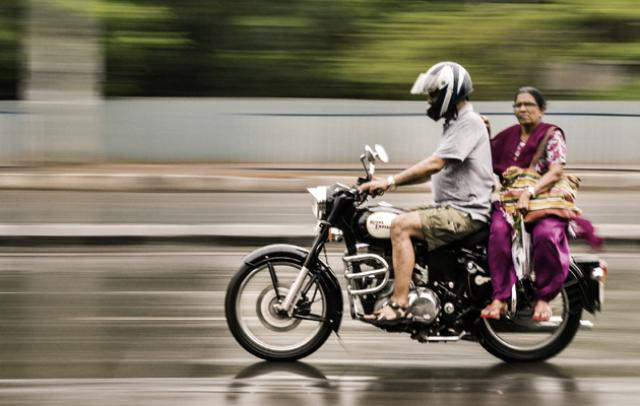helm: (411, 62, 476, 127)
motor: (224, 143, 611, 369)
non-helm: (514, 88, 549, 129)
